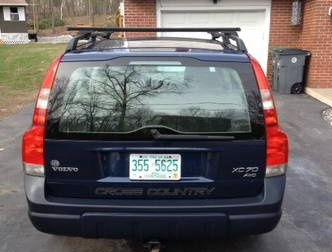volvo: (7, 17, 322, 246)
